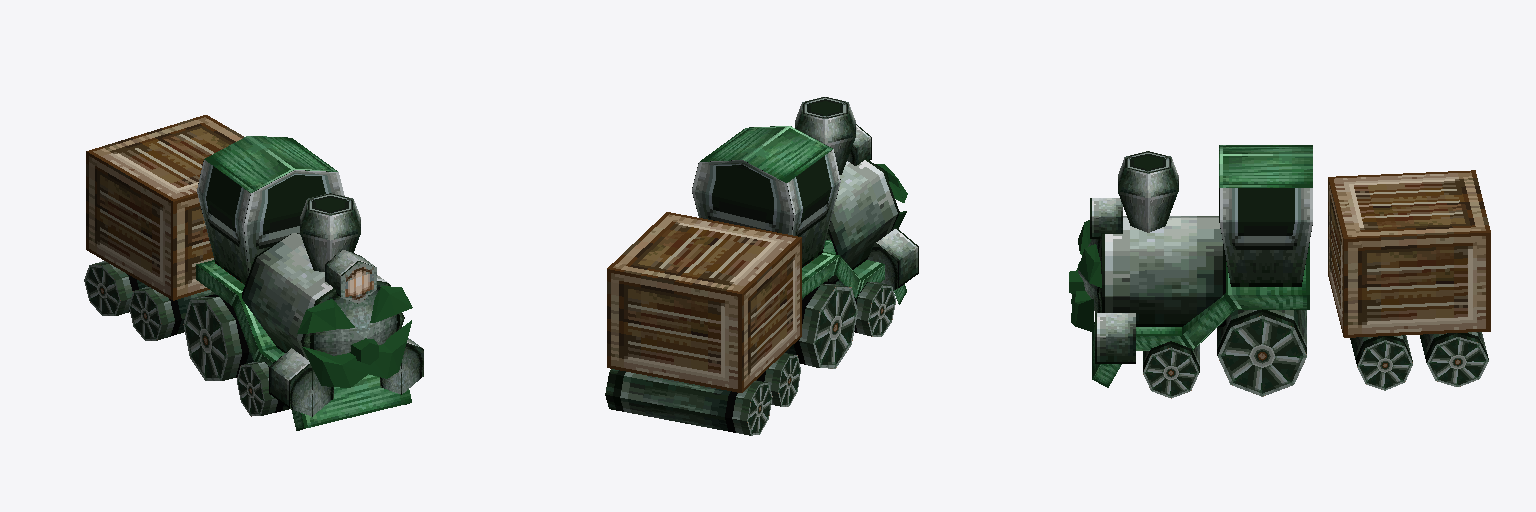
3 views of the same model, side by side, from view 1: azimuth 30°, elevation 25°; view 2: azimuth 150°, elevation 25°; view 3: azimuth 270°, elevation 25° (orthographic).
Visible parts, largest first — view 1: s3_syuppou01.png; view 2: s3_syuppou01.png; view 3: s3_syuppou01.png.
Boxes of the visible parts, box(x1,y1,x2,y2) form: s3_syuppou01.png: box(84, 115, 423, 430); s3_syuppou01.png: box(605, 97, 918, 435); s3_syuppou01.png: box(1069, 145, 1490, 398).
Bounding box in the file's own units: 25.58 × 34.31 × 61.83.
1 materials, 1 textured.